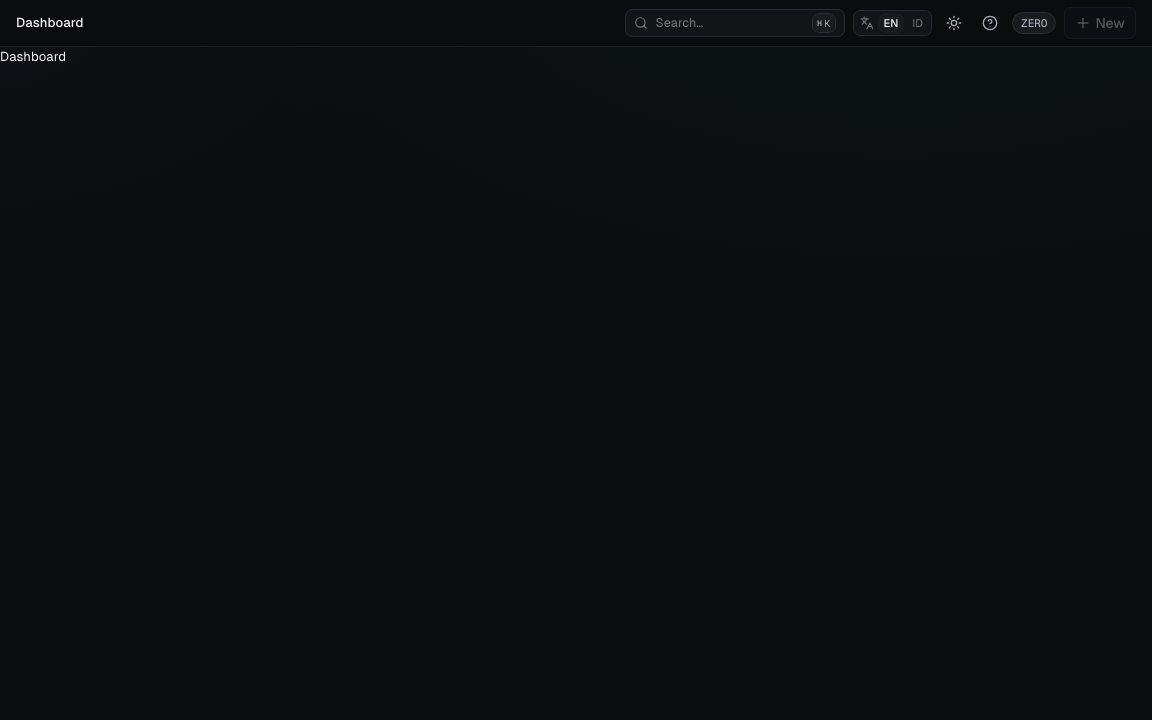
Test: <Topbar> › lists all 9 navigation commands inside the palette
The image size is (1152, 720).
Expected: the header with test id "topbar" is shown, top-left (0, 0), bottom-right (1151, 47)
Click the button with test id "topbar-search-trigger".
click(734, 23)  # box top-left (624, 9), bottom-right (844, 37)
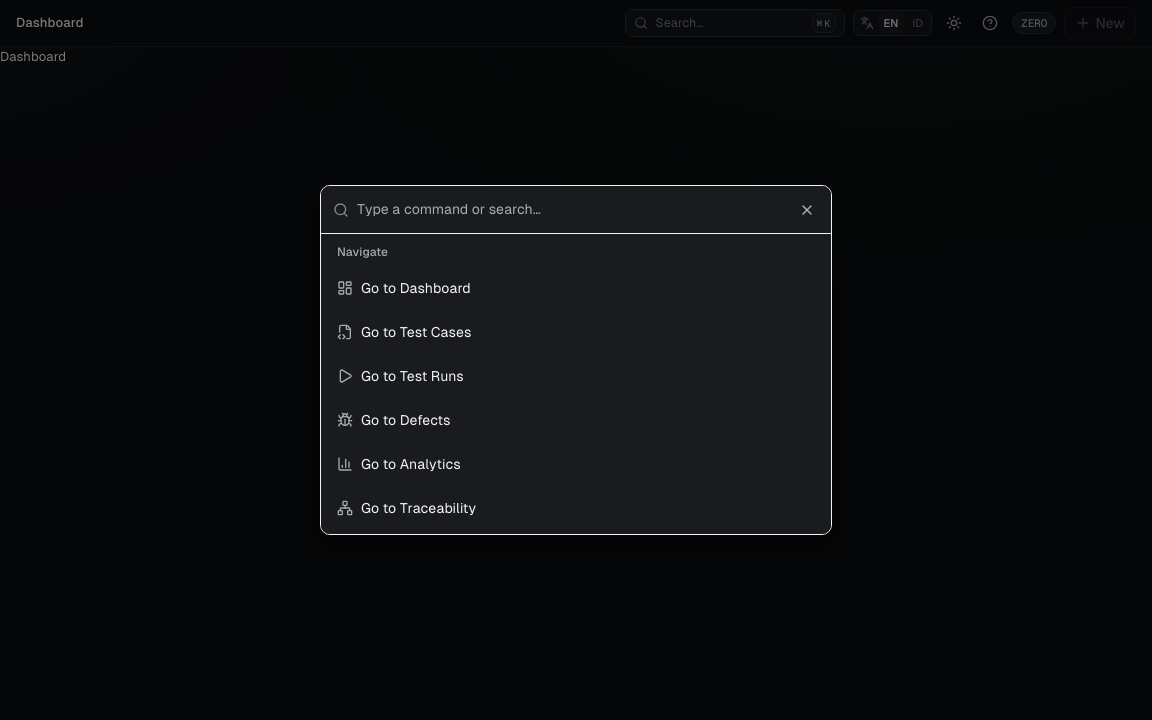
Expected: the dropdown with placeholder "Type a command or search…" is shown, top-left (357, 186), bottom-right (819, 234)
Expected: the list with test id "topbar-command-list" shows "Go to Dashboard", top-left (361, 280), bottom-right (471, 296)
Expected: the list with test id "topbar-command-list" shows "Go to Test Cases", top-left (361, 324), bottom-right (471, 340)
